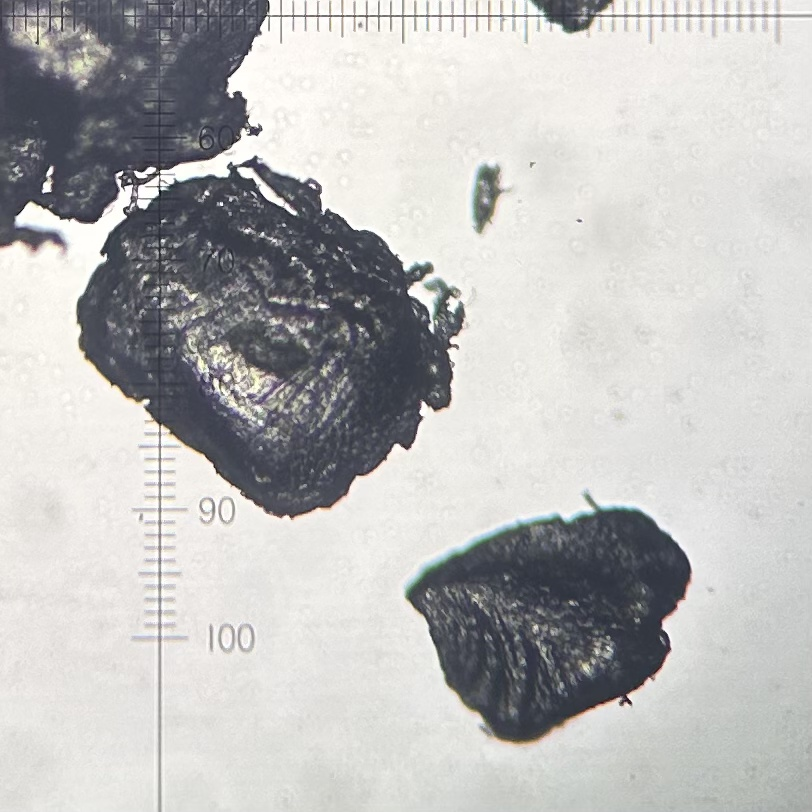microplastic: (71, 159, 457, 523), (396, 486, 697, 744), (1, 1, 271, 228), (403, 260, 473, 413), (235, 150, 328, 219), (472, 159, 514, 239), (524, 1, 619, 36), (1, 217, 73, 262)
